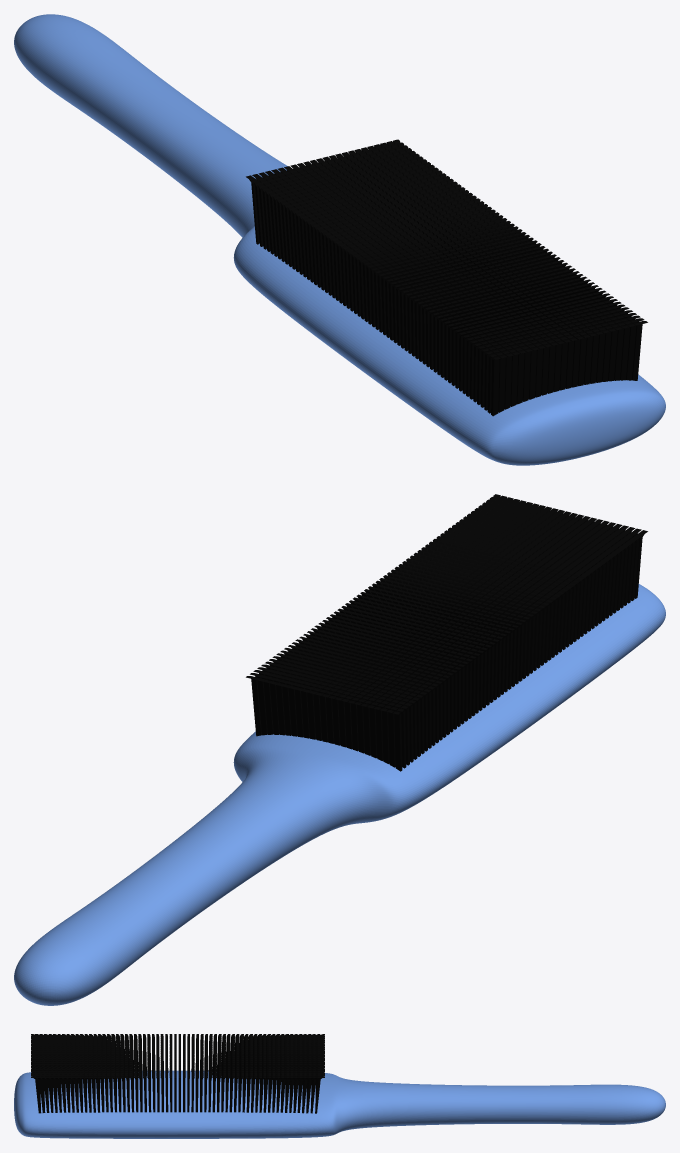
The model's file is hairbrush.fbx.
3 views of the same model, one above another, from view 1: azimuth 30°, elevation 25°; view 2: azimuth 150°, elevation 25°; view 3: azimuth 270°, elevation 25° (orthographic). The views are drawn at different scales.
Visible parts, largest first — view 1: Cube.001; view 2: Cube.001; view 3: Cube.001.
Part boxes in pixels (<box>): Cube.001: <box>14,14,665,465</box>; Cube.001: <box>14,494,665,1005</box>; Cube.001: <box>14,1034,665,1138</box>.
Bounding box in the file's own units: 226 × 129 × 1129.
